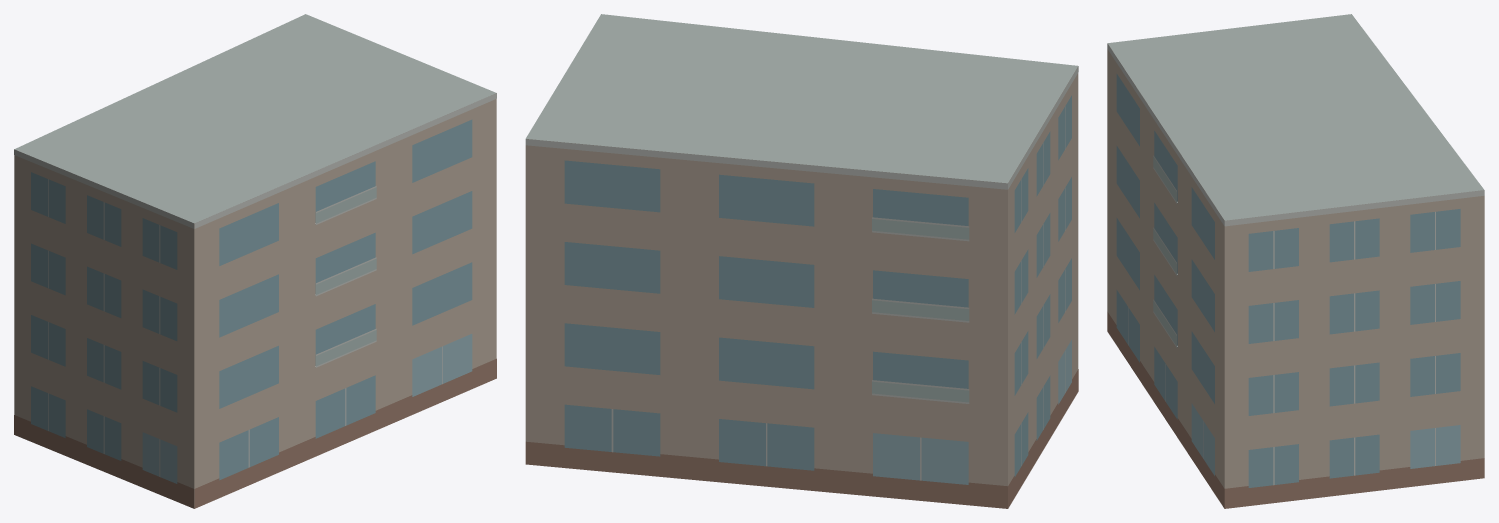
The model's file is survey-upis-32523359.glb.
3 views of the same model, side by side, from view 1: azimuth 30°, elevation 25°; view 2: azimuth 150°, elevation 25°; view 3: azimuth 270°, elevation 25° (orthographic). The views are drawn at different scales.
Visible parts, largest first — view 1: survey-upis-32523359.tmp; view 2: survey-upis-32523359.tmp; view 3: survey-upis-32523359.tmp.
Boxes of the visible parts, left/top/right/bottom form: survey-upis-32523359.tmp: left=14, top=14, right=496, bottom=508; survey-upis-32523359.tmp: left=525, top=14, right=1078, bottom=508; survey-upis-32523359.tmp: left=1107, top=14, right=1484, bottom=508.
Size of the model in its own units: 18.93 by 12.3 by 14.6.
